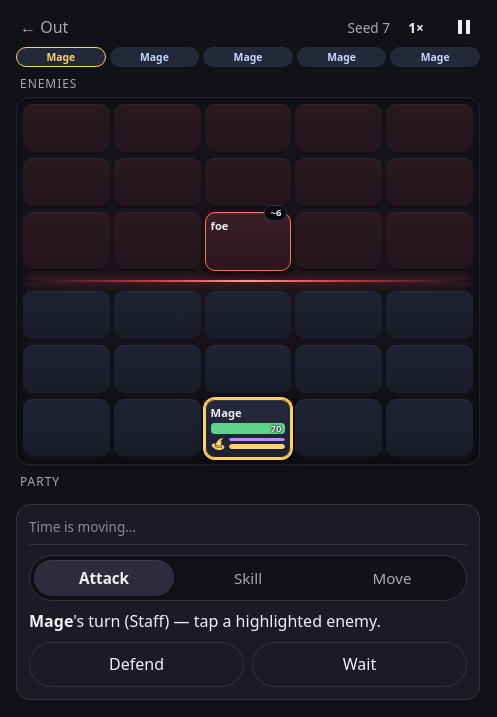
Test: BattleScreen › given the party asked, when it defends, then the way out is renamed
This screenshot has width=497, height=717.
Check: the element named "Action" is shown, box [29,555,467,601]
Click the button "Defend".
click(136, 664)  # box [29,642,244,687]
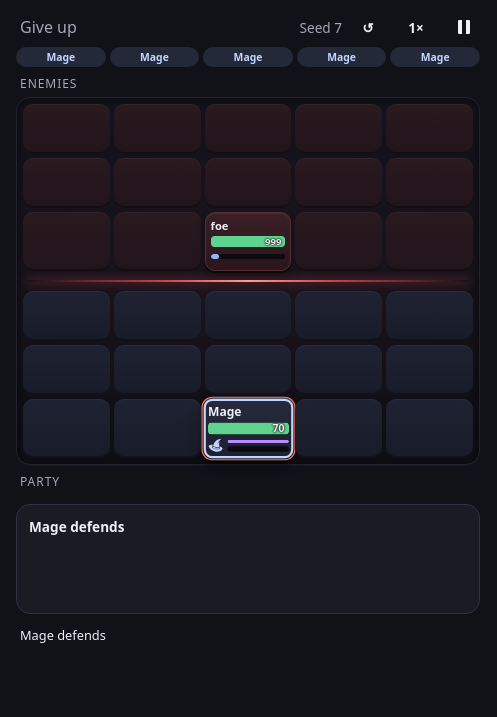
Check: the button "Give up" is shown, box [20,16,77,38]
